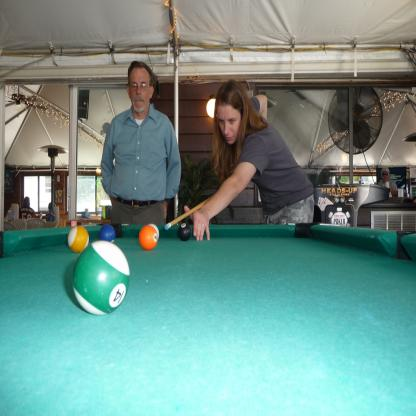Ball: (72, 240, 128, 314), (68, 225, 88, 255), (141, 227, 156, 248), (99, 226, 115, 242), (150, 223, 158, 239)
